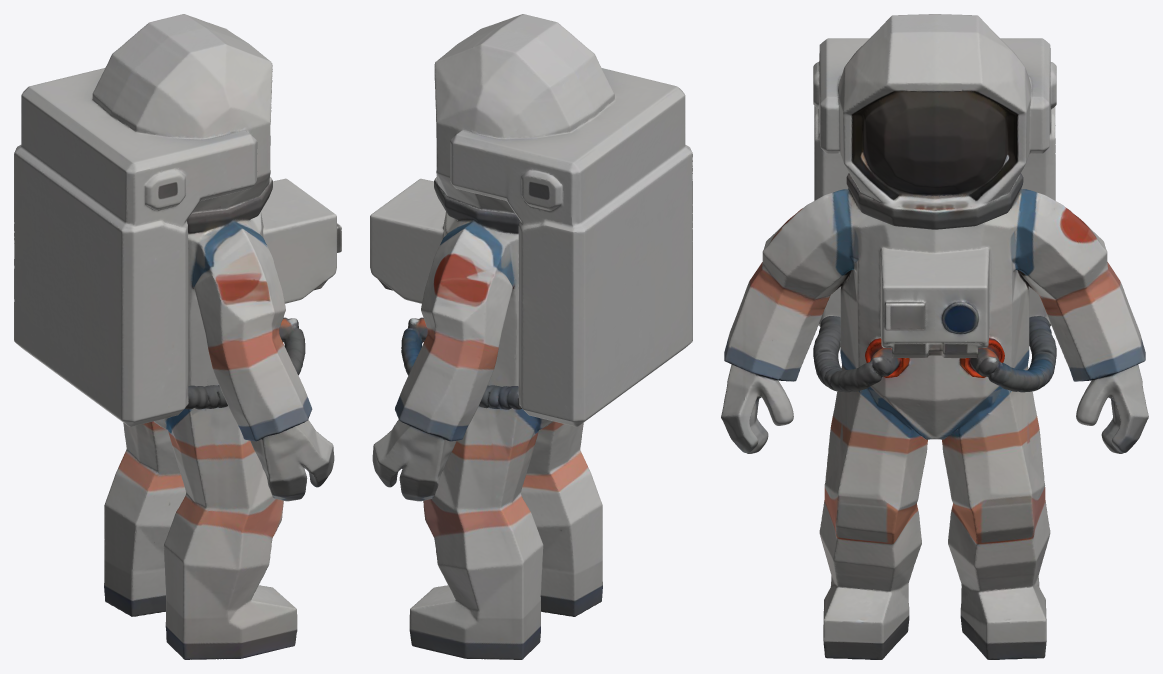
The model's file is astronaut.glb.
3 renders of one model, left to right at view 1: azimuth 30°, elevation 25°; view 2: azimuth 150°, elevation 25°; view 3: azimuth 270°, elevation 25°, orthographic. The views are drawn at different scales.
Parts seen in each view (by area): view 1: tripo_node_f9ae7909-ea24-457b-a05f-5d54130c589b; view 2: tripo_node_f9ae7909-ea24-457b-a05f-5d54130c589b; view 3: tripo_node_f9ae7909-ea24-457b-a05f-5d54130c589b.
Part boxes in pixels (x1=…): tripo_node_f9ae7909-ea24-457b-a05f-5d54130c589b: x1=14, y1=14, x2=341, y2=659; tripo_node_f9ae7909-ea24-457b-a05f-5d54130c589b: x1=370, y1=14, x2=692, y2=659; tripo_node_f9ae7909-ea24-457b-a05f-5d54130c589b: x1=721, y1=14, x2=1148, y2=659.
Size of the model in its own units: 0.4449 by 1 by 0.6375.
Materials: 1 (1 with a texture image).
